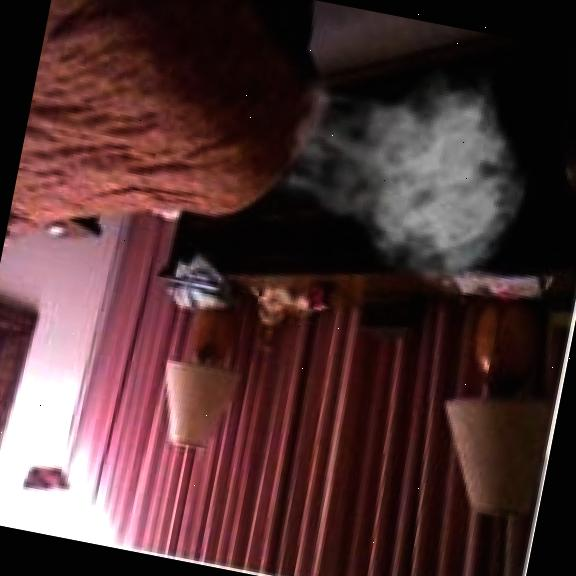smoke: (249, 32, 549, 310)
